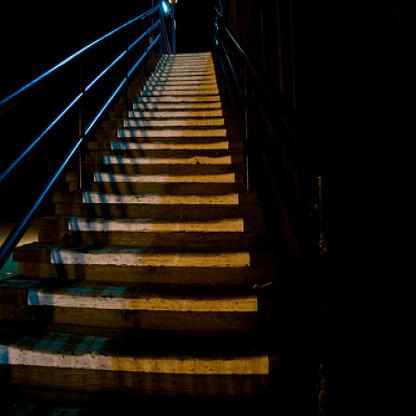stairs: (61, 241, 248, 416)
